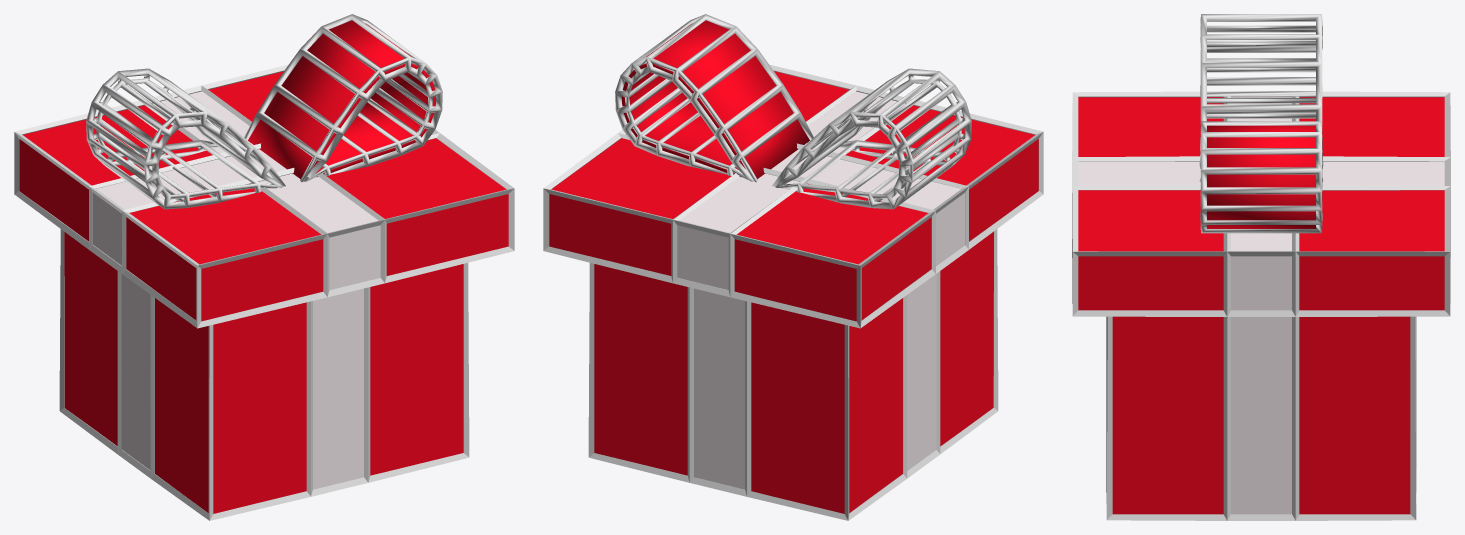
Rendered from REGALO 4.fbx.
The picture shows the model from 3 angles, left to right: view 1: azimuth 30°, elevation 25°; view 2: azimuth 150°, elevation 25°; view 3: azimuth 270°, elevation 25°; orthographic projection. The views are drawn at different scales.
Visible parts, largest first — view 1: Regalo.005; view 2: Regalo.005; view 3: Regalo.005.
Boxes of the visible parts, x1=… form: Regalo.005: x1=14, y1=14, x2=514, y2=520; Regalo.005: x1=543, y1=14, x2=1043, y2=520; Regalo.005: x1=1072, y1=14, x2=1450, y2=520.
Bounding box in the file's own units: 348 × 388 × 348.
